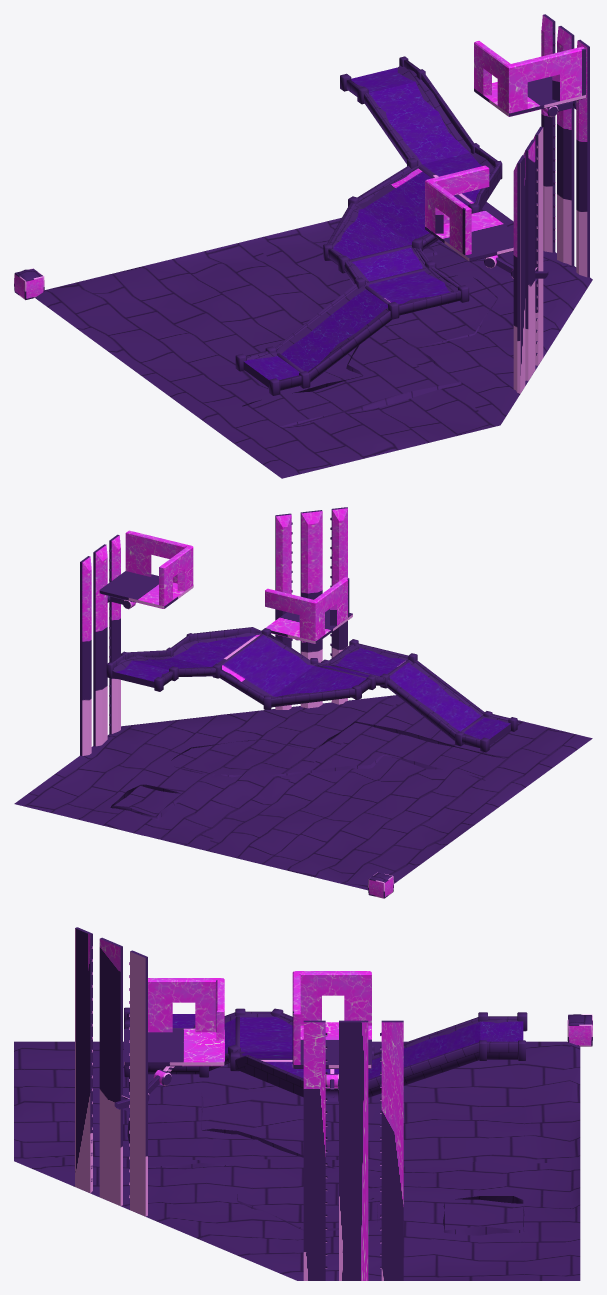
The model's file is Desert.fbx.
3 views of the same model, one above another, from view 1: azimuth 30°, elevation 25°; view 2: azimuth 150°, elevation 25°; view 3: azimuth 270°, elevation 25° (orthographic). The views are drawn at different scales.
Visible parts, largest first — view 1: Desert_floor001, Desert_floor, Desert_moving_platform, Desert_moving_platform2, Box_with_sand; view 2: Desert_floor001, Desert_floor, Desert_moving_platform, Desert_moving_platform2, Box_with_sand; view 3: Desert_floor001, Desert_moving_platform, Desert_moving_platform2, Desert_floor, Box_with_sand.
Boxes of the visible parts, <box> form: Desert_floor001: <box>35,202,592,478</box>; Desert_floor: <box>235,56,502,395</box>; Desert_moving_platform: <box>474,14,589,277</box>; Desert_moving_platform2: <box>425,126,548,393</box>; Box_with_sand: <box>14,268,44,300</box>; Desert_floor001: <box>14,695,592,890</box>; Desert_floor: <box>106,627,517,752</box>; Desert_moving_platform: <box>80,530,193,755</box>; Desert_moving_platform2: <box>265,507,352,709</box>; Box_with_sand: <box>368,872,393,898</box>; Desert_floor001: <box>14,1041,580,1280</box>; Desert_moving_platform: <box>292,971,403,1280</box>; Desert_moving_platform2: <box>75,927,224,1216</box>; Desert_floor: <box>124,1007,527,1097</box>; Box_with_sand: <box>567,1014,592,1046</box>.
Bounding box in the file's own units: 1597 × 820 × 1597.
